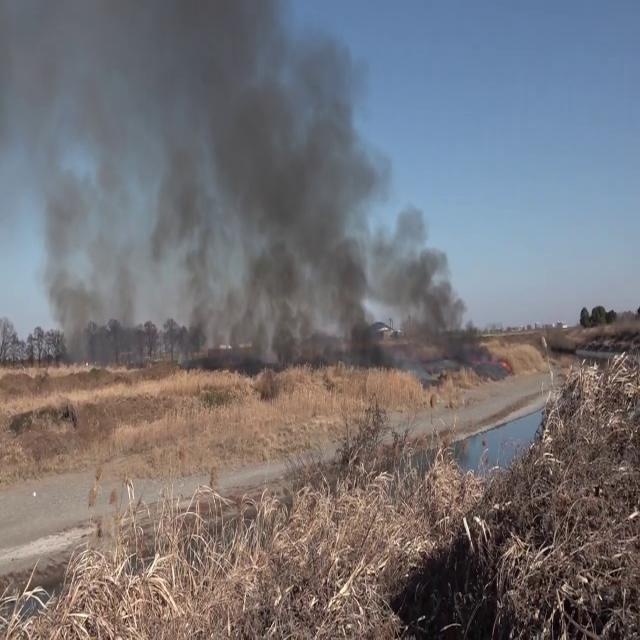Smoke: (4, 0, 486, 361)
